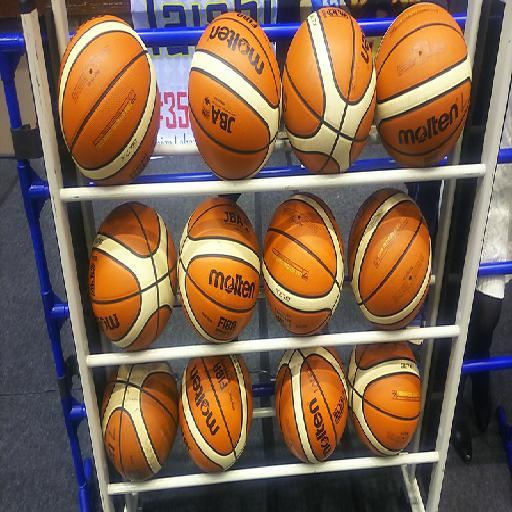ball: (186, 12, 281, 181)
